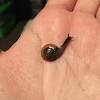snail: (40, 33, 72, 62)
